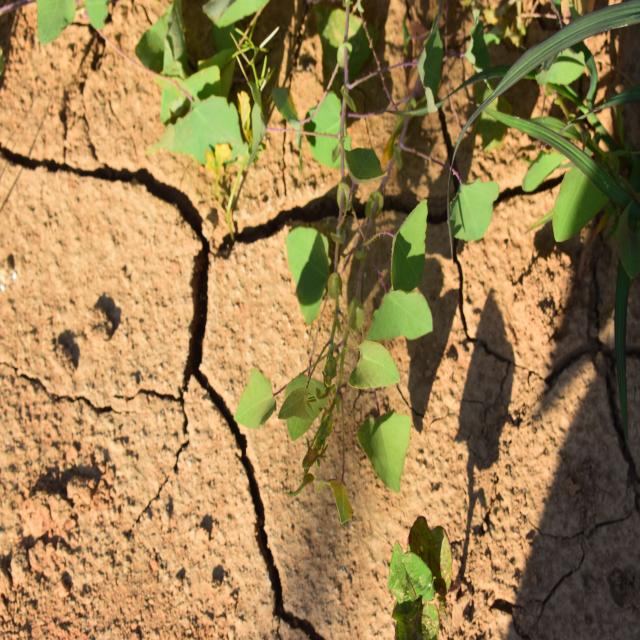Asiatic_Smartweed: (252, 204, 429, 506)
